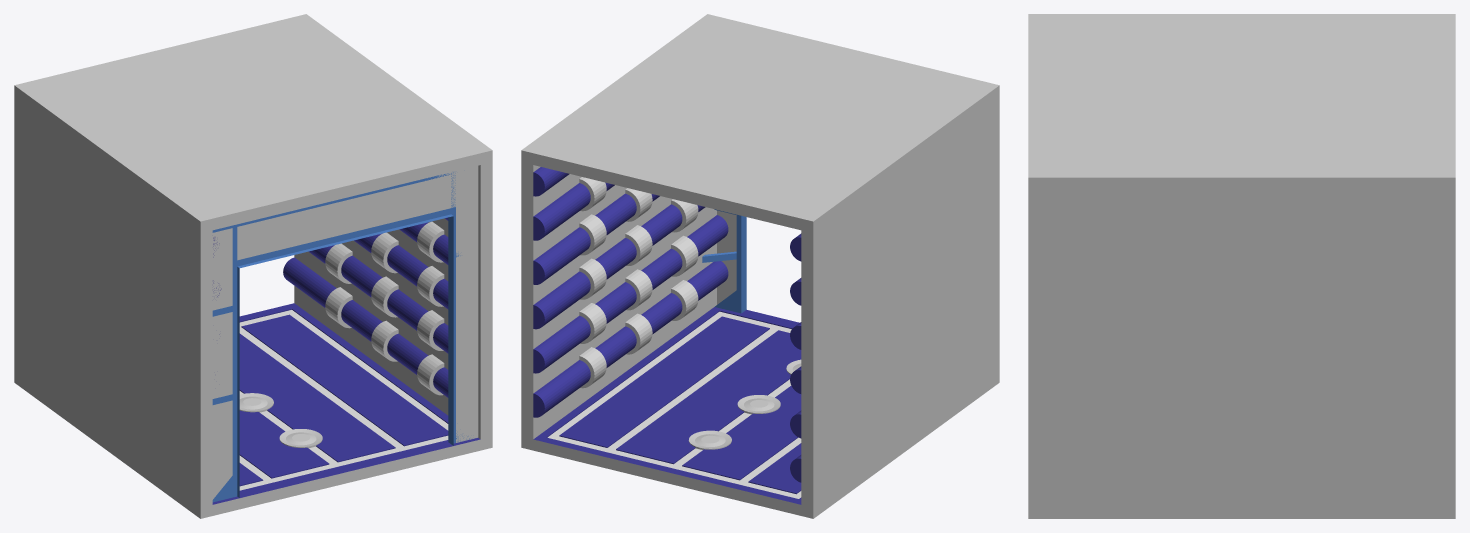
The model's file is CorridorDoor.fbx.
3 views of the same model, side by side, from view 1: azimuth 30°, elevation 25°; view 2: azimuth 150°, elevation 25°; view 3: azimuth 270°, elevation 25° (orthographic). The views are drawn at different scales.
Parts seen in each view (by area): view 1: Cube; view 2: Cube; view 3: Cube.
Boxes of the visible parts, bbox=[...] form: Cube: bbox=[14, 14, 492, 518]; Cube: bbox=[521, 14, 999, 518]; Cube: bbox=[1028, 14, 1455, 518].
Bounding box in the file's own units: 691 × 672 × 763.
